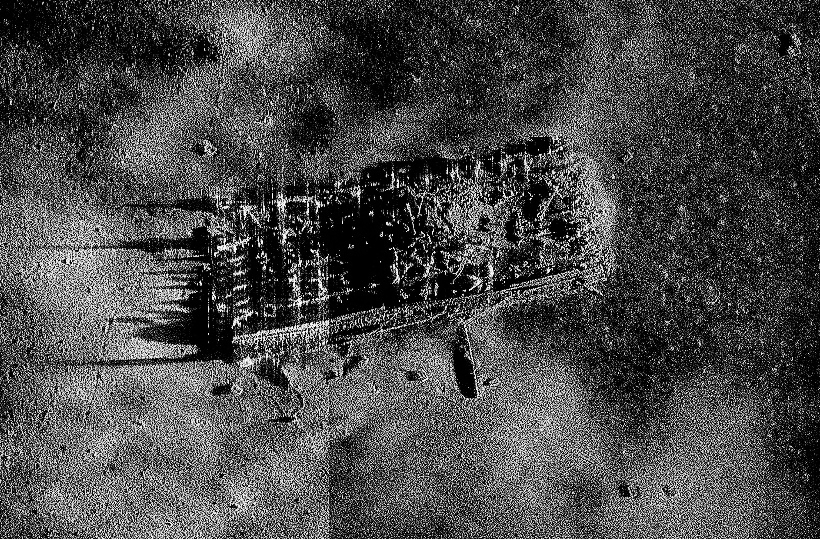ship: (195, 143, 618, 371)
